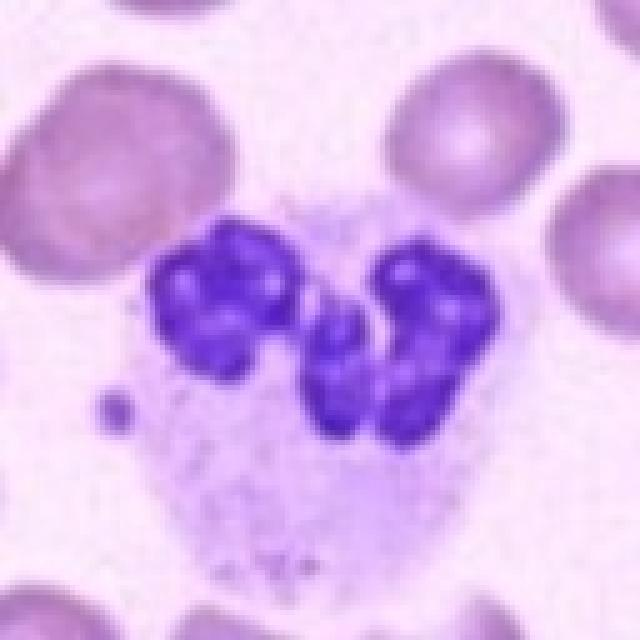neutro: (114, 59, 548, 528)
